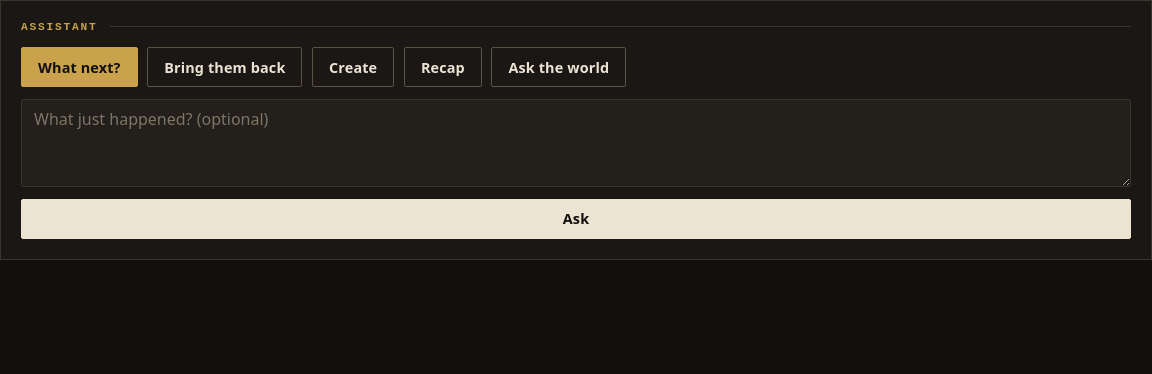
Scenario: AssistantPanel › suggests the next beat, with an optional note, and shows the answer and token use
The image size is (1152, 374).
Type "They want to leave." into the text box with test id "job-text" at (576, 143), box [21,99,1131,187]
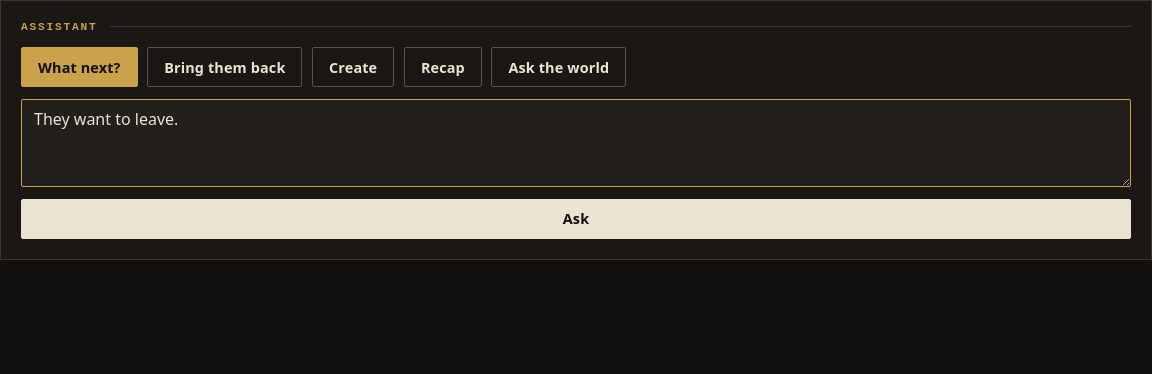
Click the button with test id "ai-ask" at (576, 219), box [21,199,1131,239]
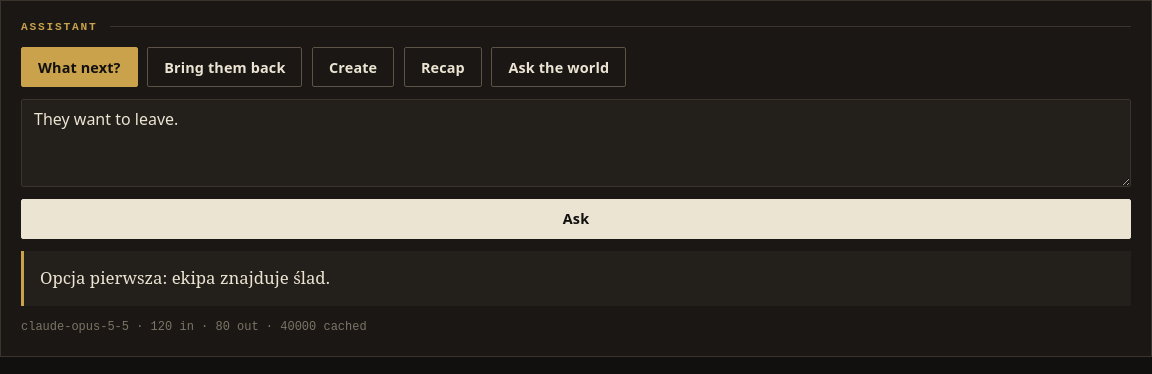
Now the text with test id "ai-answer" reads "Opcja pierwsza: ekipa znajduje ślad.", box [40,266,330,289]
Now the text with test id "ai-usage" shows "120 in", box [21,320,367,334]
Now the text with test id "ai-usage" shows "40000 cached", box [21,320,367,334]
